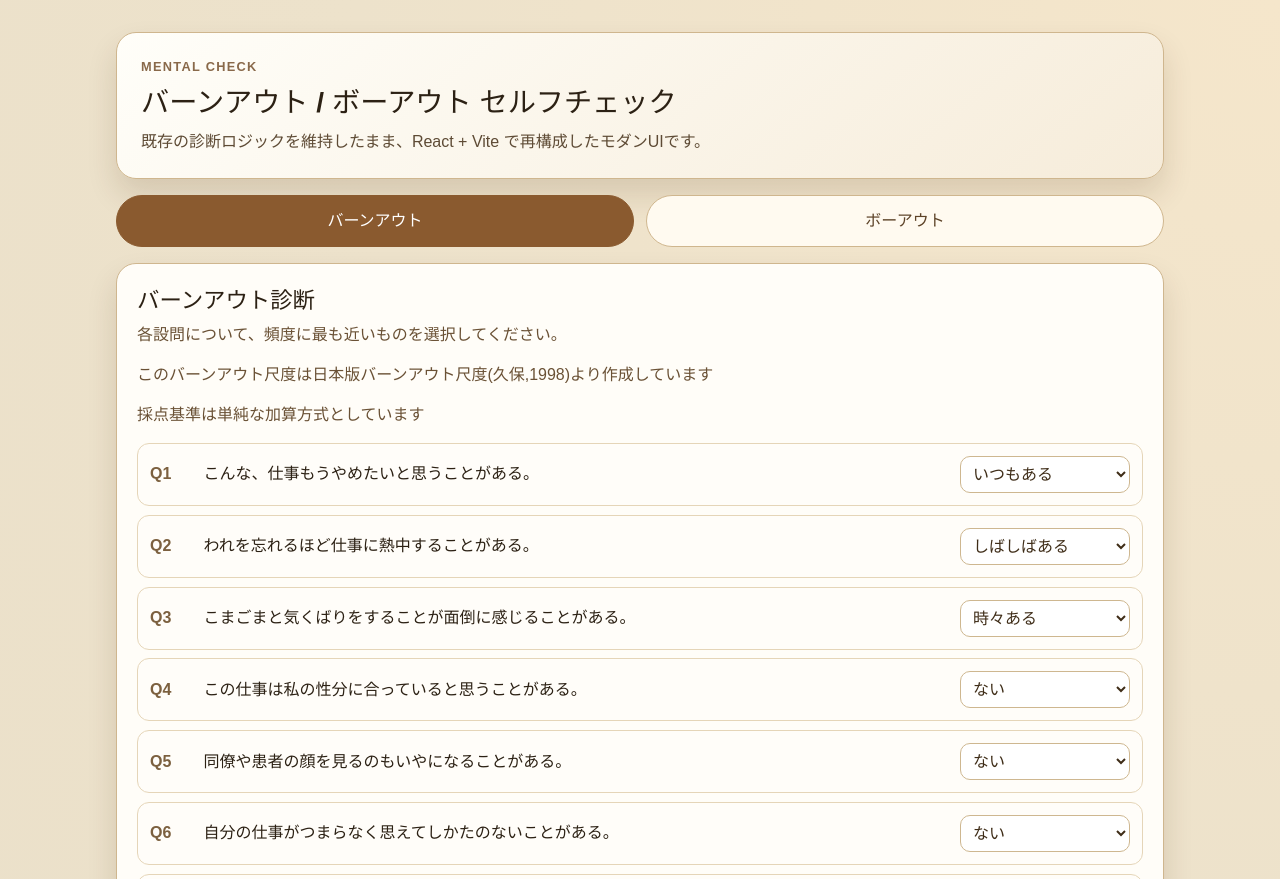
Test: App › uses latest history answers as defaults for each test tab
The width and height of the screenshot is (1280, 879).
Expected: the dropdown labelled "Q1 こんな、仕事もうやめたいと思うことがある。" shows "いつもある", [960,456,1130,493]
Click the button "ボーアウト".
click(905, 221)  # box [646,195,1164,247]
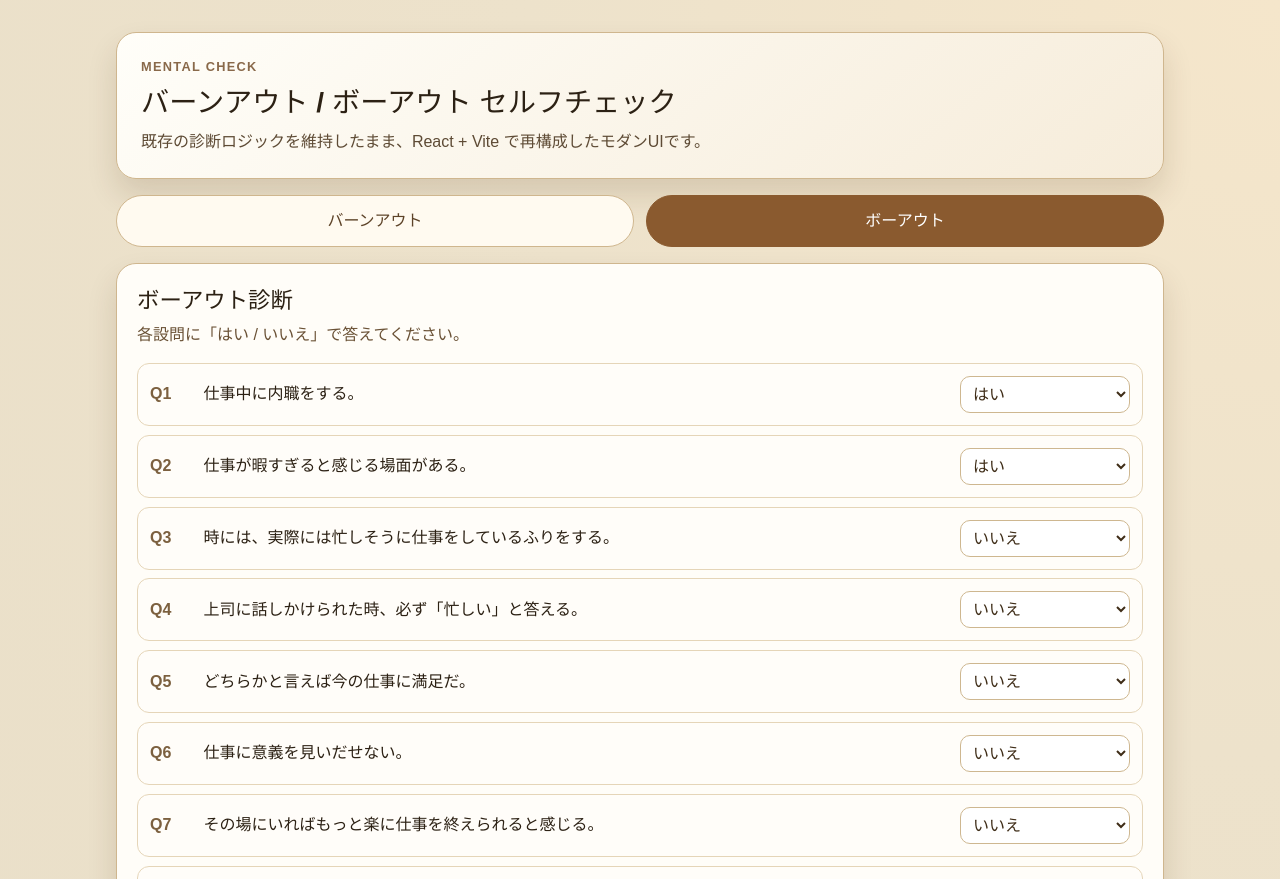
Expected: the dropdown labelled "Q1 仕事中に内職をする。" shows "はい", [960,376,1130,413]
